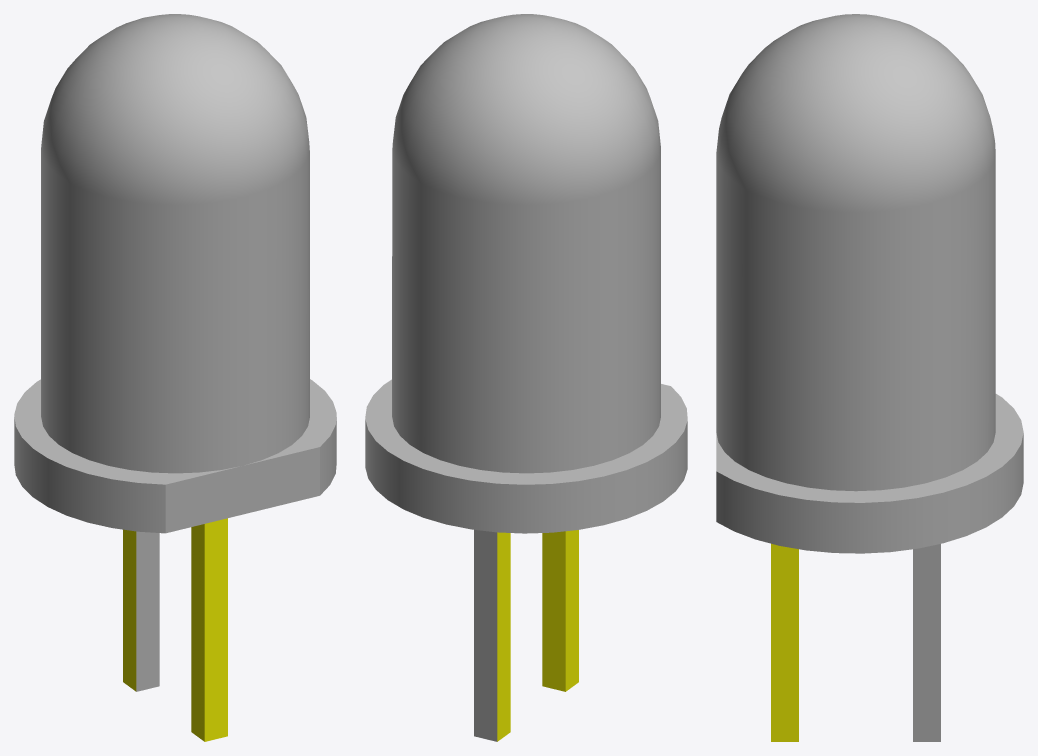
The model's file is LED_5mm_Yellow.fbx.
3 renders of one model, left to right at view 1: azimuth 30°, elevation 25°; view 2: azimuth 150°, elevation 25°; view 3: azimuth 270°, elevation 25°, orthographic. The views are drawn at different scales.
Visible parts, largest first — view 1: LED_5mm_Yellow; view 2: LED_5mm_Yellow; view 3: LED_5mm_Yellow.
Part boxes in pixels (x1,y1,x2,y2): LED_5mm_Yellow: [14, 14, 336, 741]; LED_5mm_Yellow: [365, 14, 687, 741]; LED_5mm_Yellow: [716, 14, 1023, 741].
Size of the model in its own units: 0.5996 by 1.4 by 0.55.
